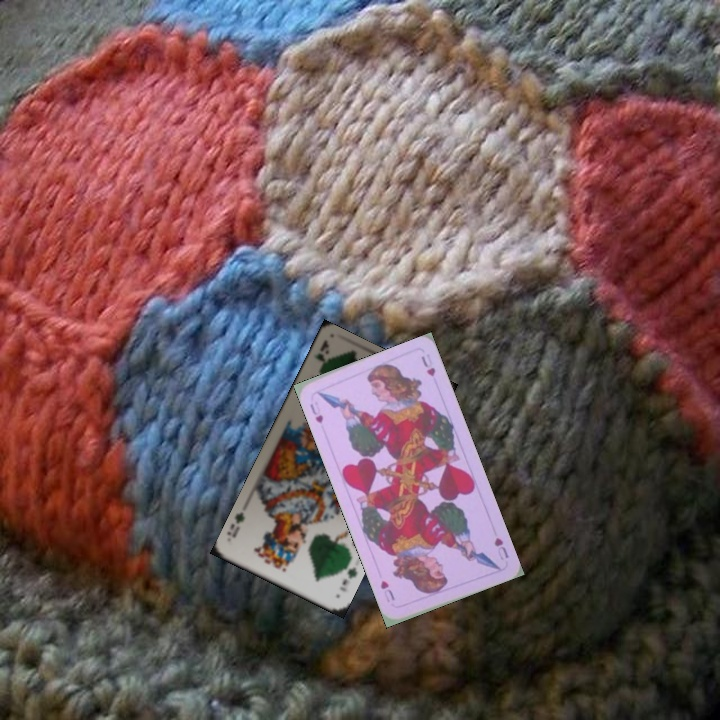GK: (310, 336, 332, 378), (336, 558, 360, 594)
HU: (490, 533, 511, 563), (305, 399, 326, 426)
